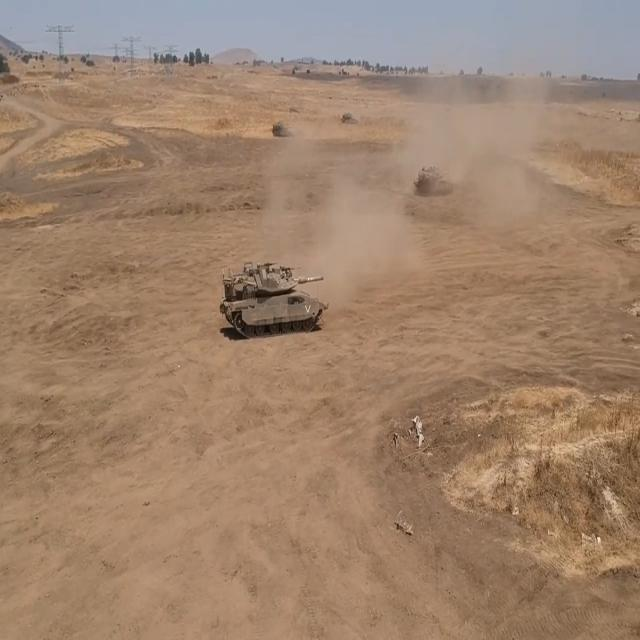tank: (216, 246, 330, 339), (408, 153, 459, 200), (274, 115, 294, 142), (341, 107, 359, 128)
